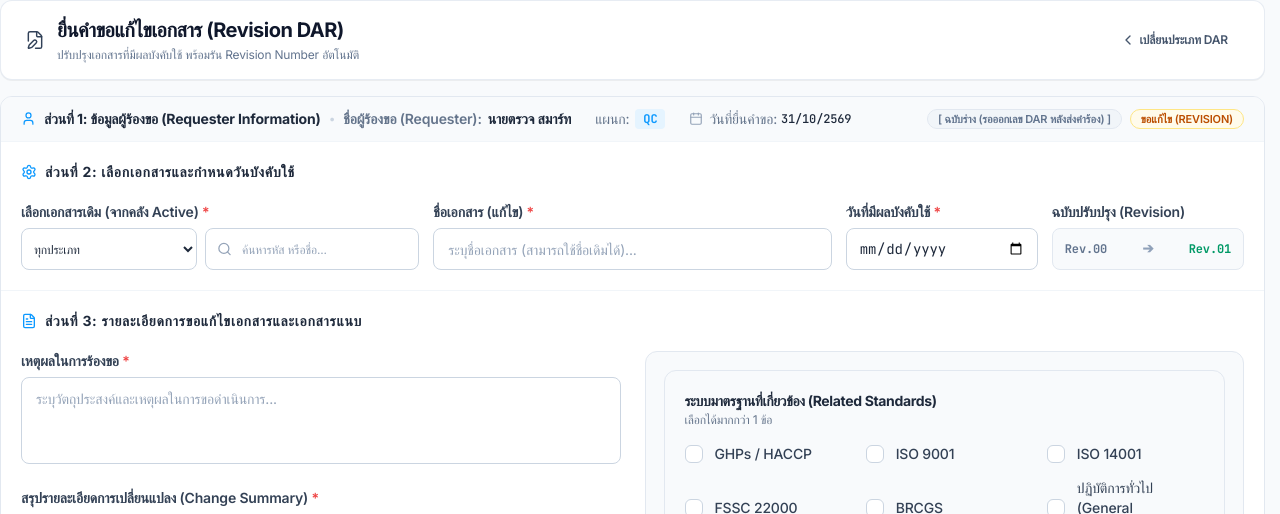
Test case: DAR Document Code Resolution & Form Standardization › 2. DAR Revision Form UI: Dropdown & Selected State › updates Selected State box with blue code badge and title upon selecting a document
Note: Focus search input to show dropdown
Step 1. Focus the field with placeholder "ค้นหารหัส หรือชื่อ..." → (312, 249), box 205,228 -> 419,270
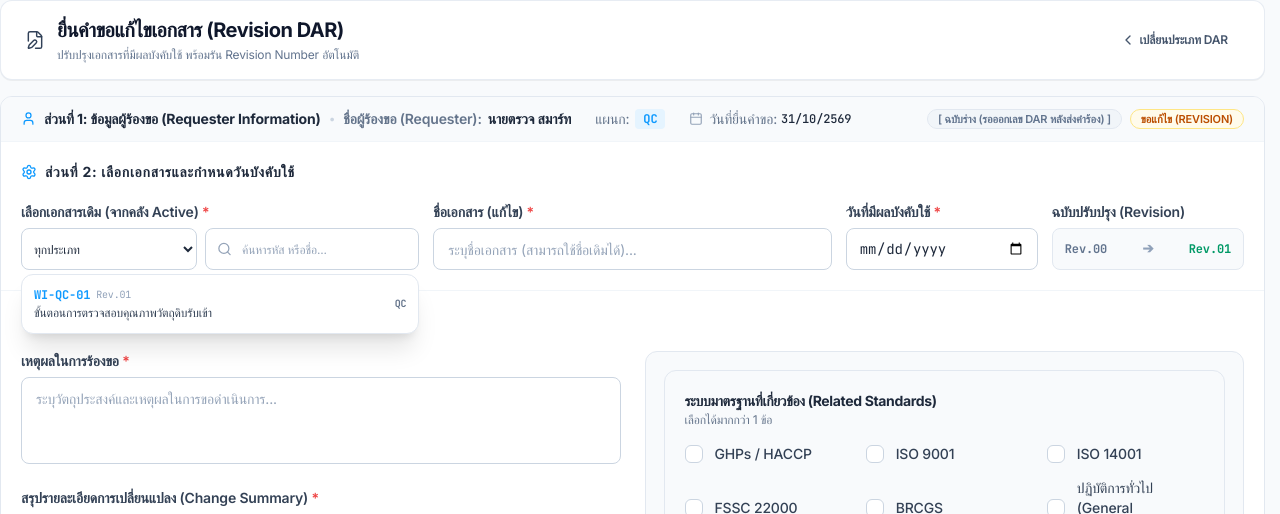
Now the text "ขั้นตอนการตรวจสอบคุณภาพวัตถุดิบรับเข้า" is shown, box 34,305 -> 212,320
Step 2. Click the text "ขั้นตอนการตรวจสอบคุณภาพวัตถุดิบรับเข้า" → (62, 295), box 34,287 -> 406,320
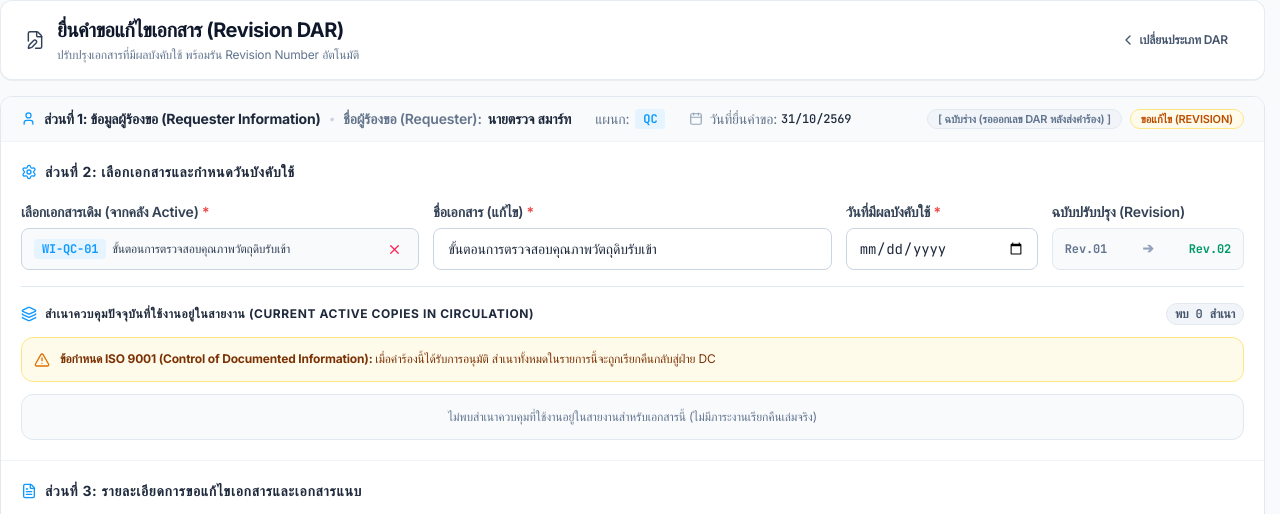
Now the text "ขั้นตอนการตรวจสอบคุณภาพวัตถุดิบรับเข้า" is shown, box 112,241 -> 290,257
Now the button titled "เปลี่ยนเอกสาร" is shown
Step 3. Click the button titled "เปลี่ยนเอกสาร" → (395, 249), box 383,238 -> 406,261
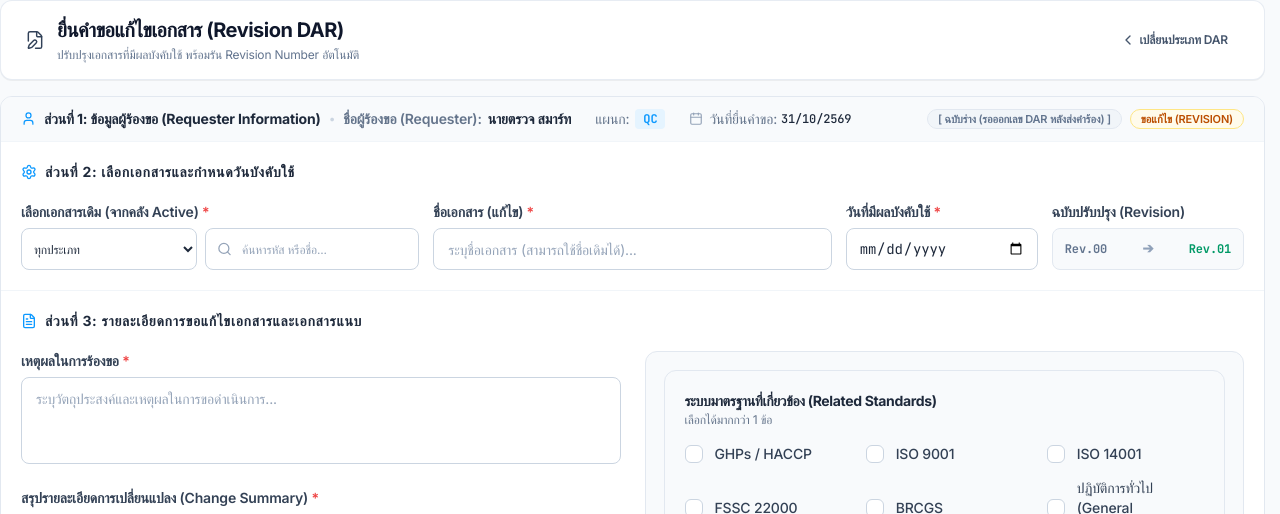
Now the field with placeholder "ค้นหารหัส หรือชื่อ..." is shown, box 205,228 -> 419,270
